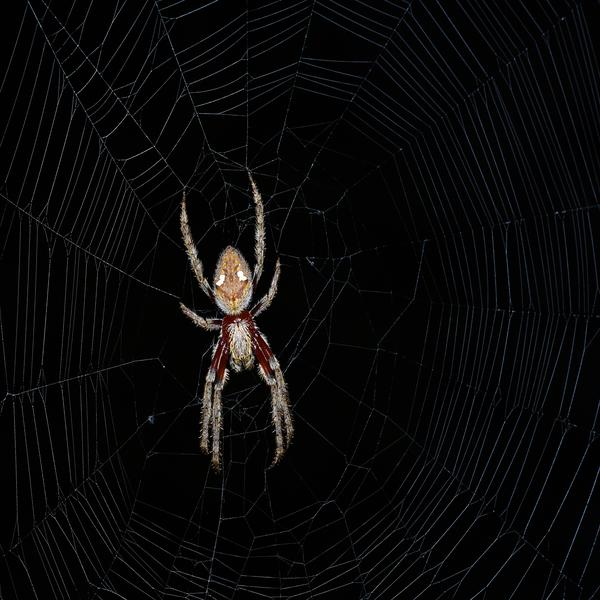Garden Orb Weaver Spider: (181, 192, 296, 470)
